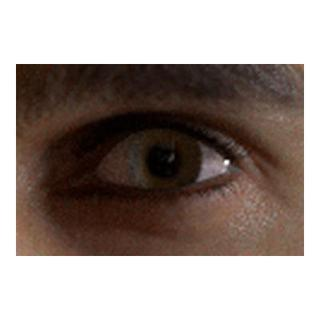pupil: (148, 145, 180, 177)
